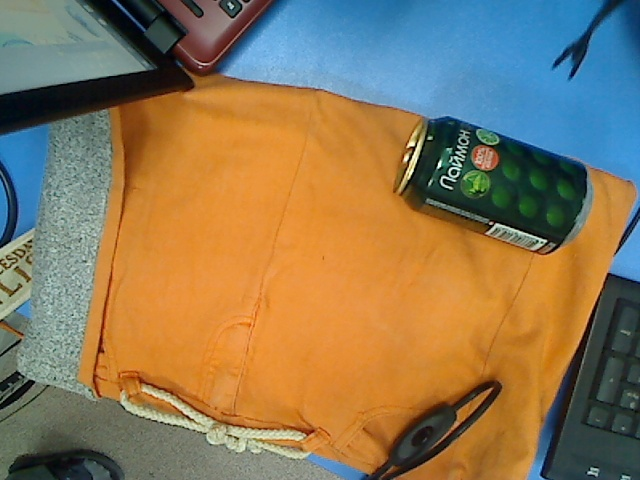can: (392, 115, 595, 264)
